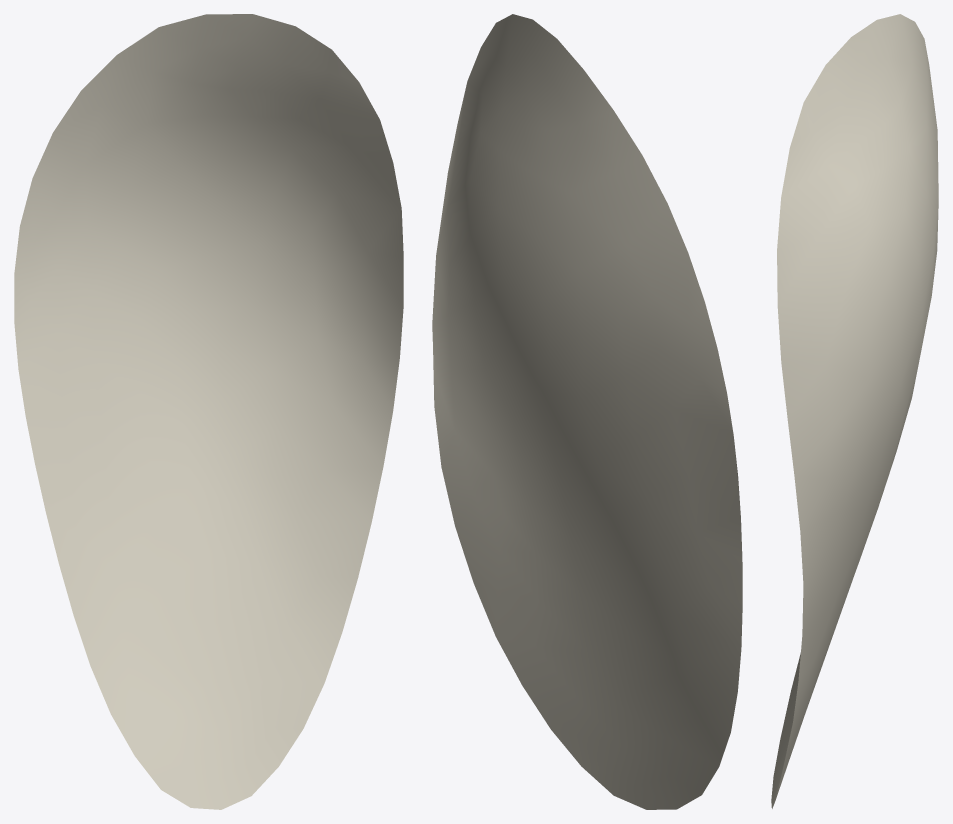
The model's file is fma43710_mm1662m.glb.
The picture shows the model from 3 angles, left to right: view 1: azimuth 30°, elevation 25°; view 2: azimuth 150°, elevation 25°; view 3: azimuth 270°, elevation 25°; orthographic projection. The views are drawn at different scales.
Visible parts, largest first — view 1: FMA43710_MM1662M; view 2: FMA43710_MM1662M; view 3: FMA43710_MM1662M.
Boxes of the visible parts, left/top/right/bottom form: FMA43710_MM1662M: left=14, top=14, right=403, bottom=809; FMA43710_MM1662M: left=432, top=14, right=742, bottom=809; FMA43710_MM1662M: left=771, top=14, right=938, bottom=808.
Bounding box in the file's own units: 0.0109 × 0.0236 × 0.00447.
